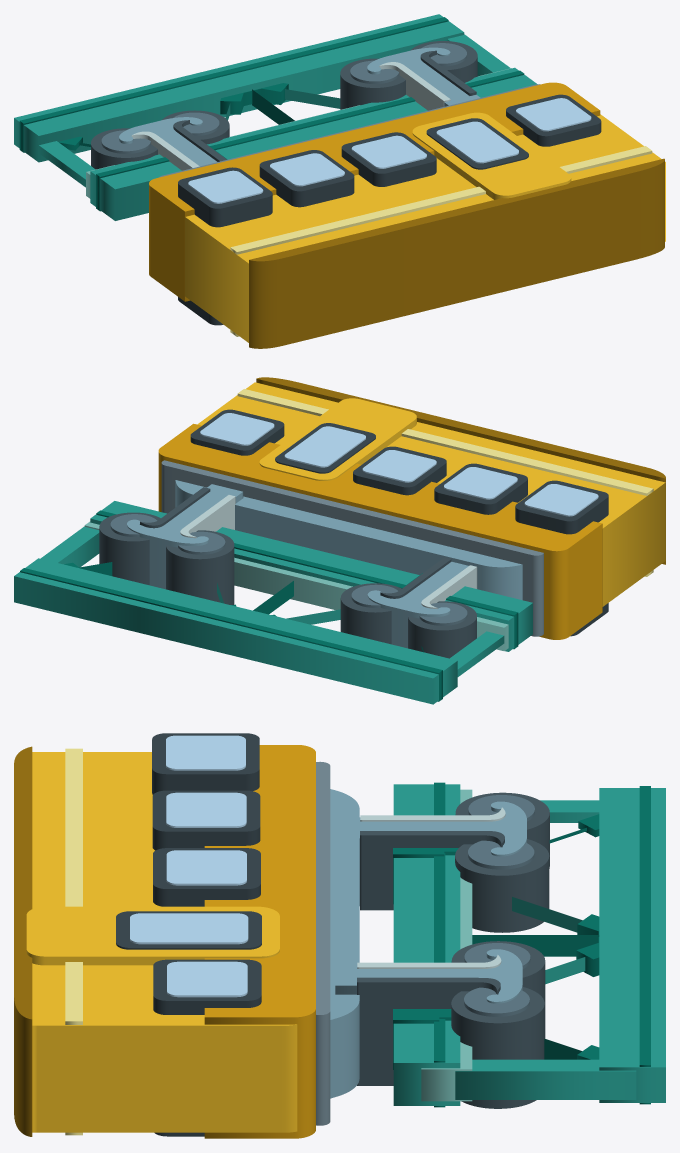
File: emoji_u1f69f.glb
3 views of the same model, one above another, from view 1: azimuth 30°, elevation 25°; view 2: azimuth 150°, elevation 25°; view 3: azimuth 270°, elevation 25° (orthographic). The views are drawn at different scales.
Parts seen in each view (by area): view 1: emoji_u1f69f; view 2: emoji_u1f69f; view 3: emoji_u1f69f.
Part boxes in pixels (box(x1,y1,x2,y2)): emoji_u1f69f: box(14, 14, 665, 348); emoji_u1f69f: box(14, 377, 665, 704); emoji_u1f69f: box(14, 733, 665, 1138).
Bounding box in the file's own units: 0.0337 × 0.009 × 0.0331.
